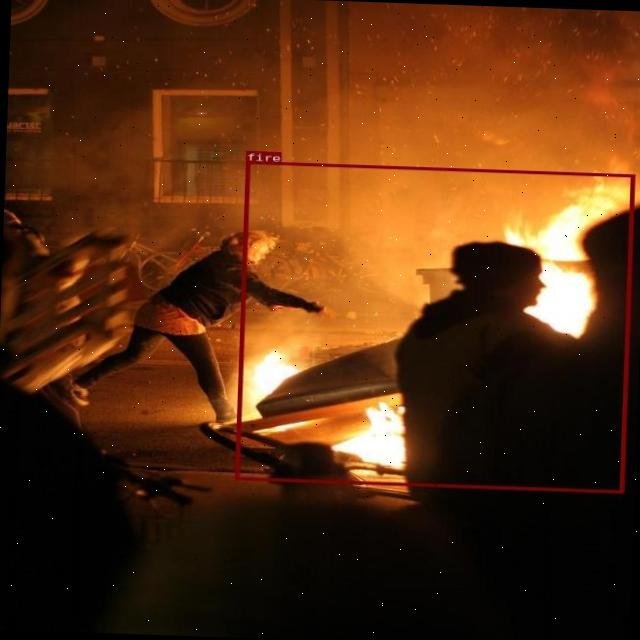fire: (234, 160, 634, 492)
